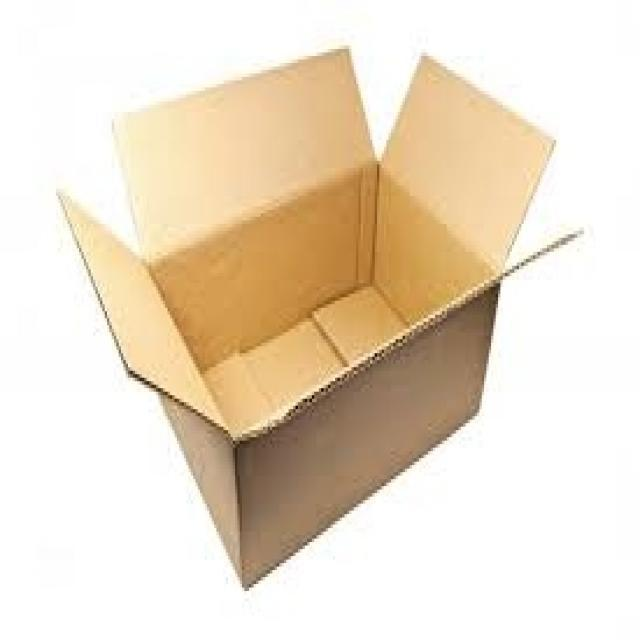cardboard: (110, 44, 379, 371)
trashbin: (54, 44, 579, 590)
